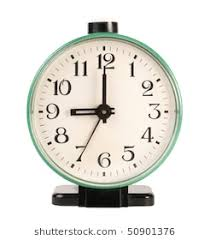alarm_clock: (27, 12, 185, 207), (27, 19, 185, 207)
